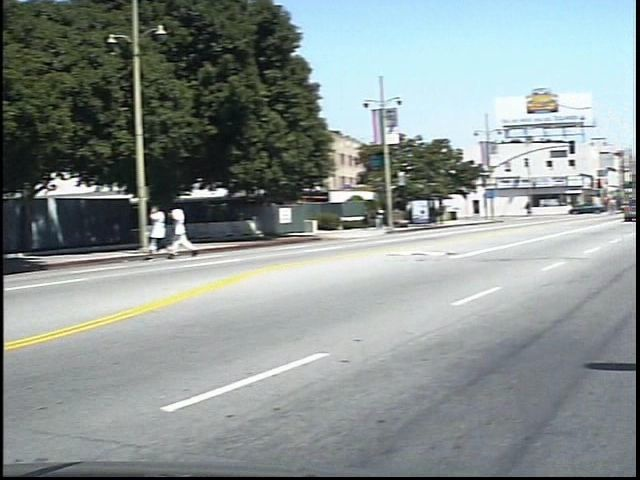person: (183, 198, 208, 260), (162, 197, 187, 259), (386, 203, 401, 230), (534, 195, 547, 219)
